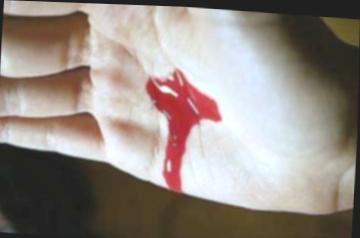Fire: (145, 67, 221, 190)
